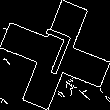L_S: (31, 26, 79, 84)
